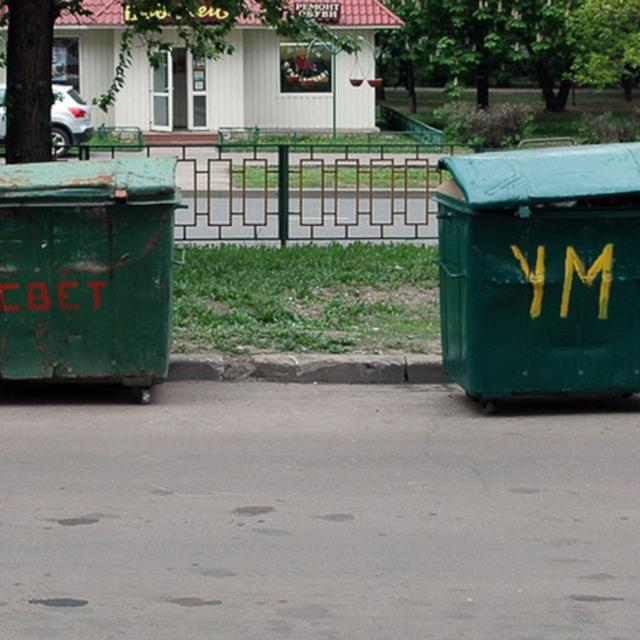Trash_Can_Closed: (434, 141, 640, 399), (0, 157, 178, 385)
